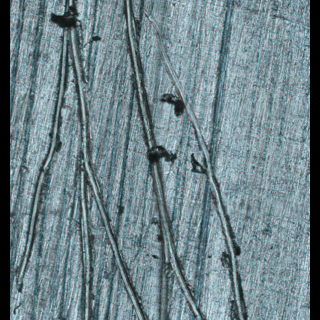d: (12, 0, 260, 319)
